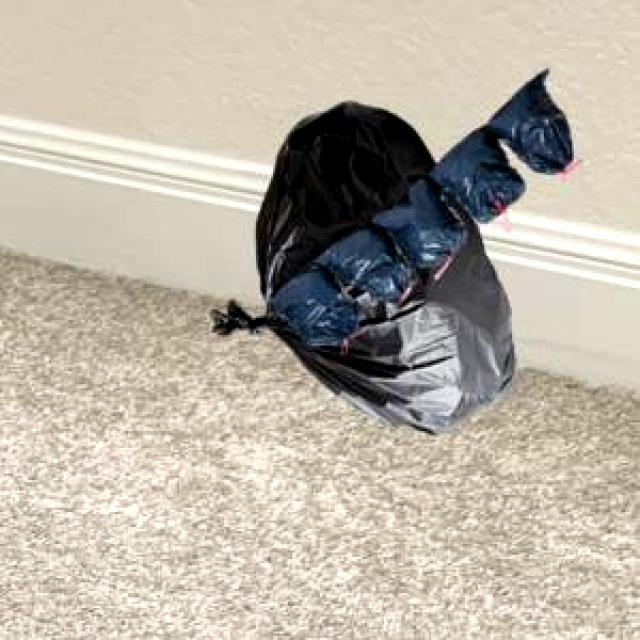Garbage_Bag: (208, 99, 515, 432), (266, 68, 570, 342)
